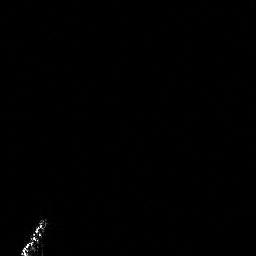ship: (16, 213, 50, 256)
